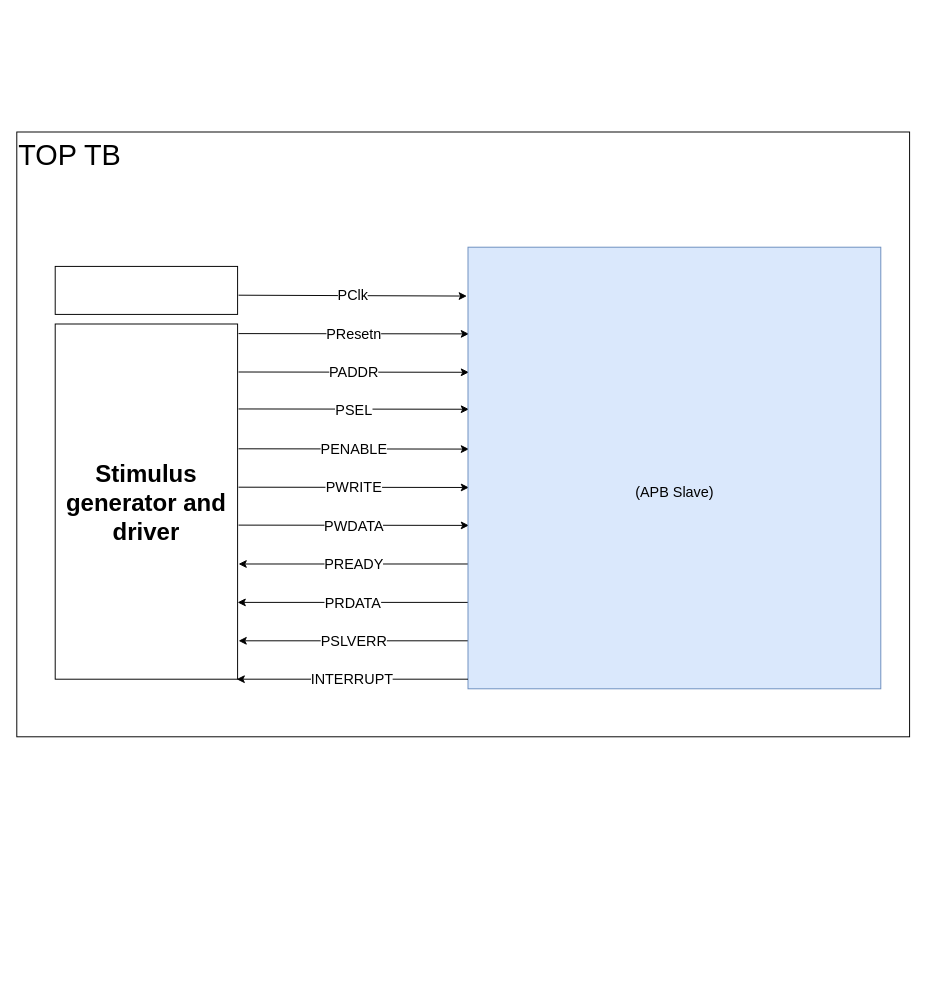
Some shapes in this 926 by 1002 pixel diagram are drawn without their labels. The box of each missing label's shape, as (x1, y1, x2, y2) in pixels:
Clock generator: (54, 265, 238, 314)
K means TOP: (467, 246, 881, 689)
